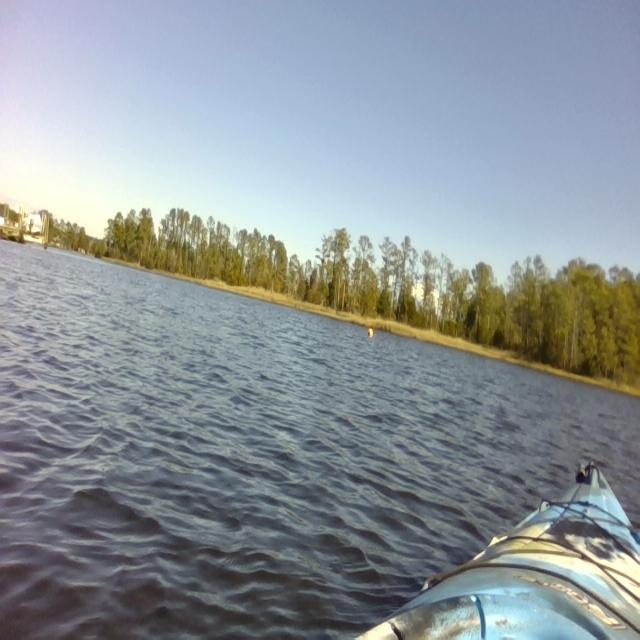Buoy: (364, 325, 375, 340)
